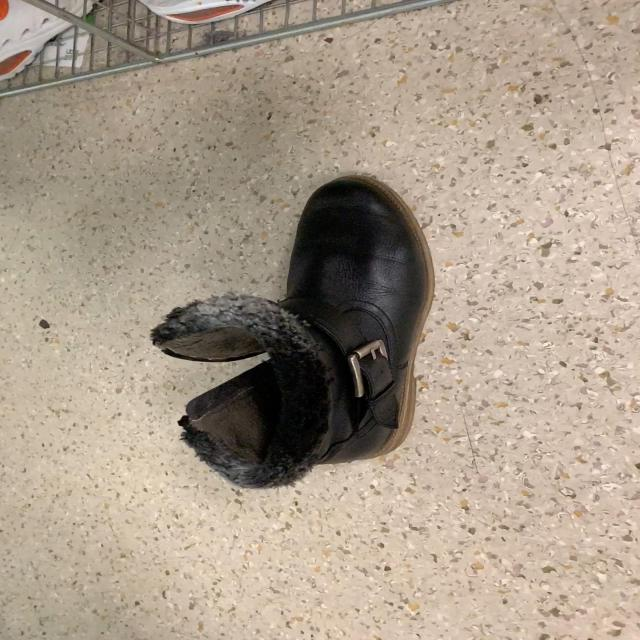shoe: (263, 174, 437, 462)
